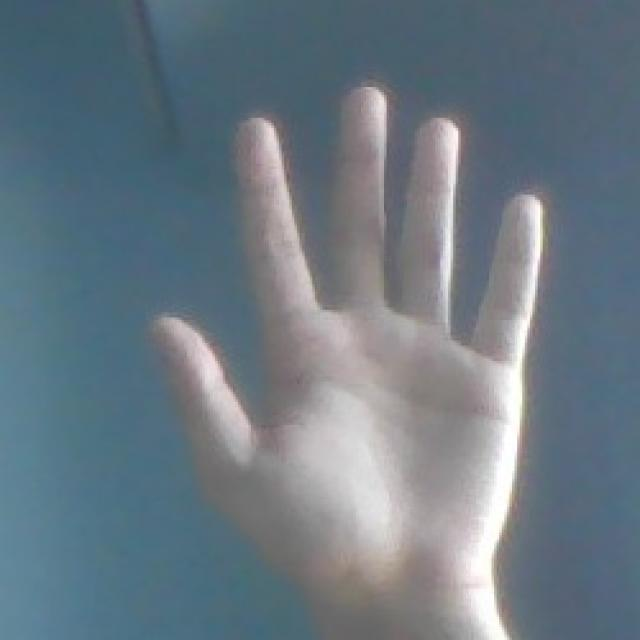Numeric-5: (142, 74, 544, 626)
